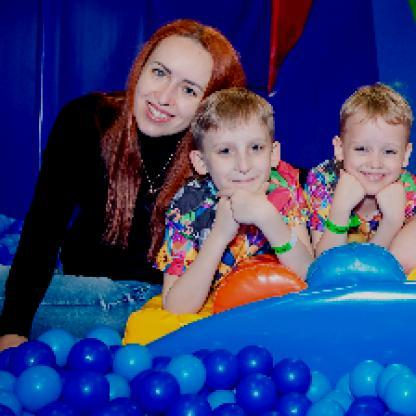child: (151, 91, 315, 314), (306, 85, 416, 280)
